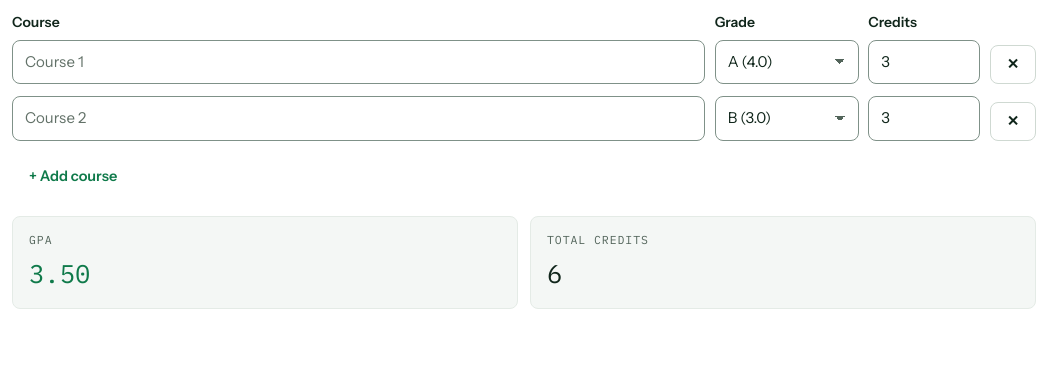
GpaCalculator › adds and removes courses
Click the button "+ Add course". click: (73, 176)
box: [12,157,134,196]
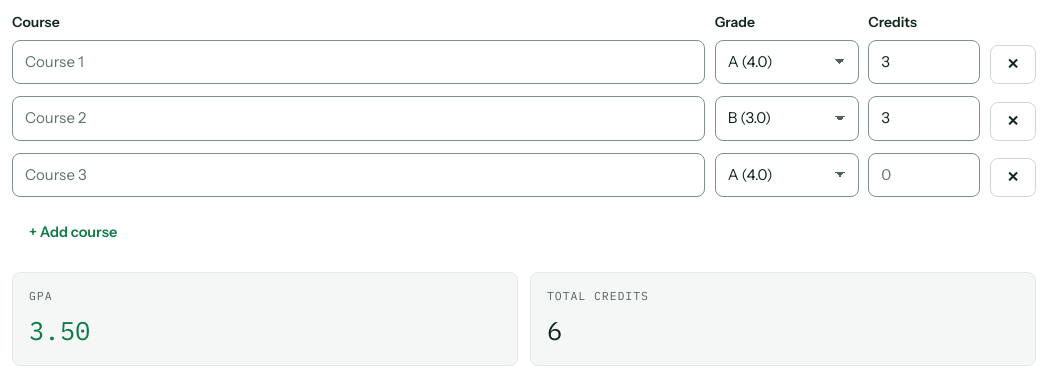
Check: the number of number fields with placeholder "0" is 3, box [868,40,980,84]; [868,96,980,141]; [868,153,980,197]
remove buttons are the ✕ buttons
Click the 3rd button titled "Remove course". click: (1013, 178)
box: [990,158,1036,197]
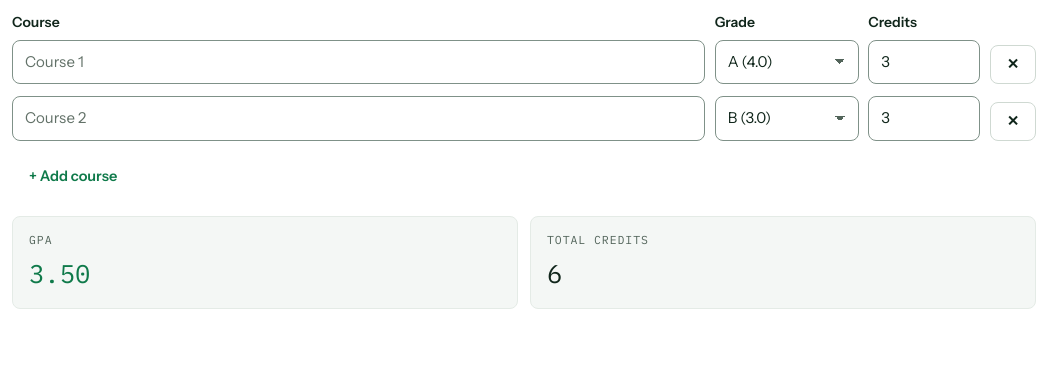
Check: the number of number fields with placeholder "0" is 2, box [868,40,980,84]; [868,96,980,141]
